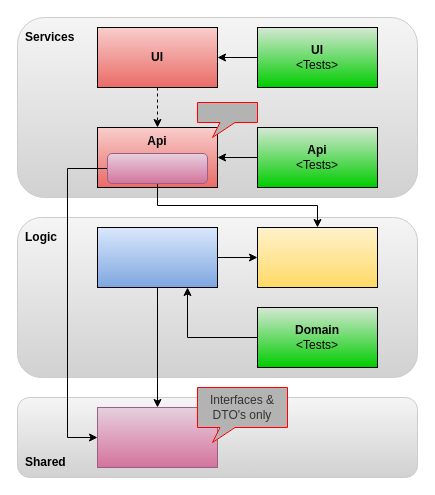
Some shapes in this 435 by 495 pixel diagram are drawn without their labels. The centre of each missing label's shape, as x and y in pixels:
Domain <Implementation>: the point at 157,257
Domain <Interfaces>: the point at 317,257
Host: the point at 227,120
Infrastructure <implementation>: the point at 157,168
Infrastructure <Interfaces>: the point at 157,437
